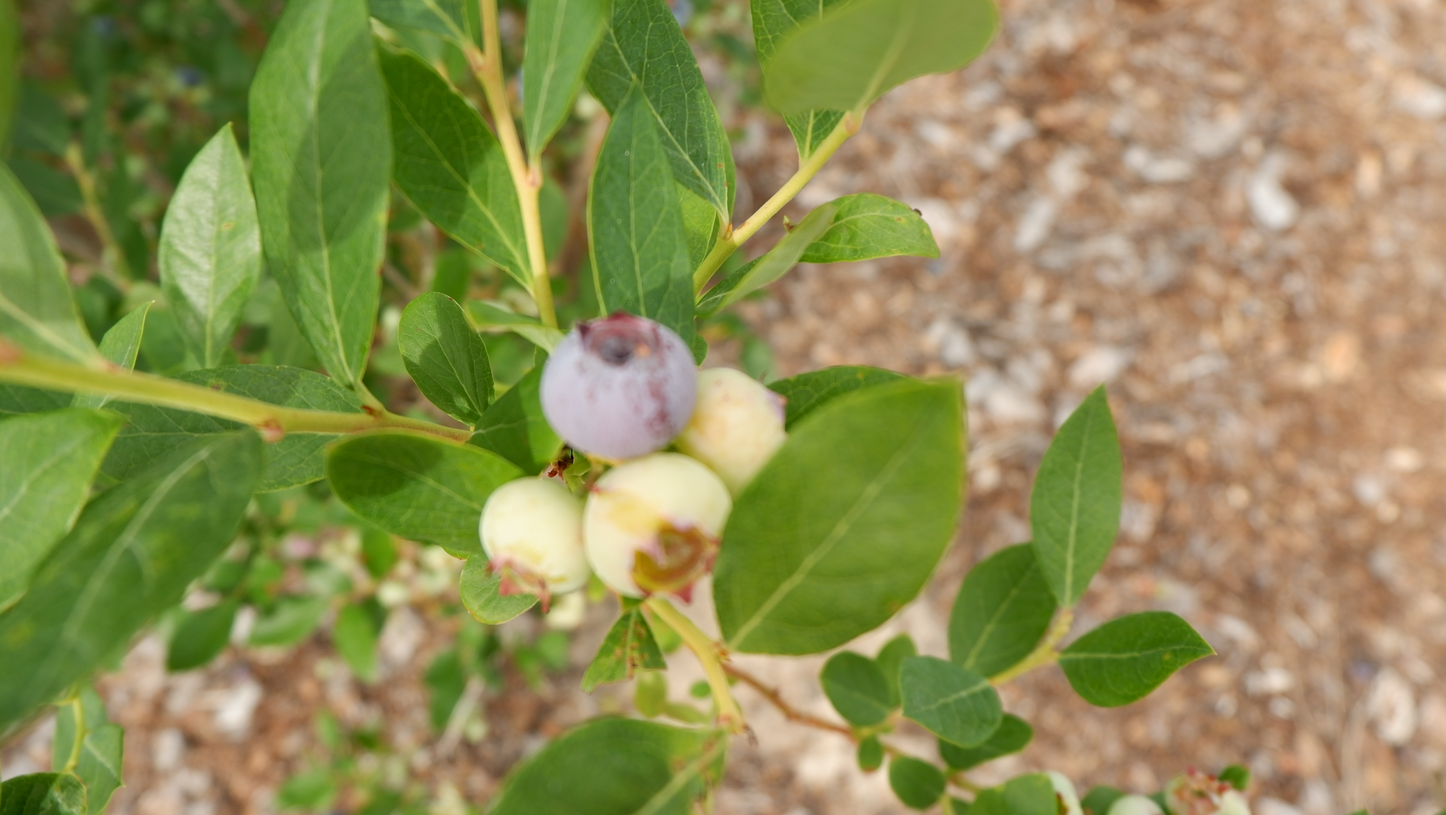Immature: (538, 309, 698, 464), (580, 453, 734, 605), (673, 367, 789, 507), (478, 477, 592, 614)
